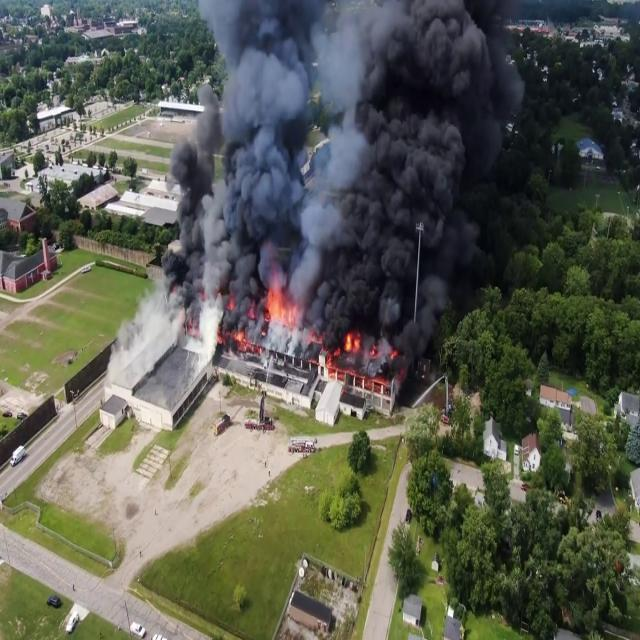Smoke: (166, 0, 546, 337)
